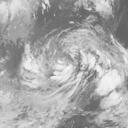cyclone: (20, 28, 98, 93)
